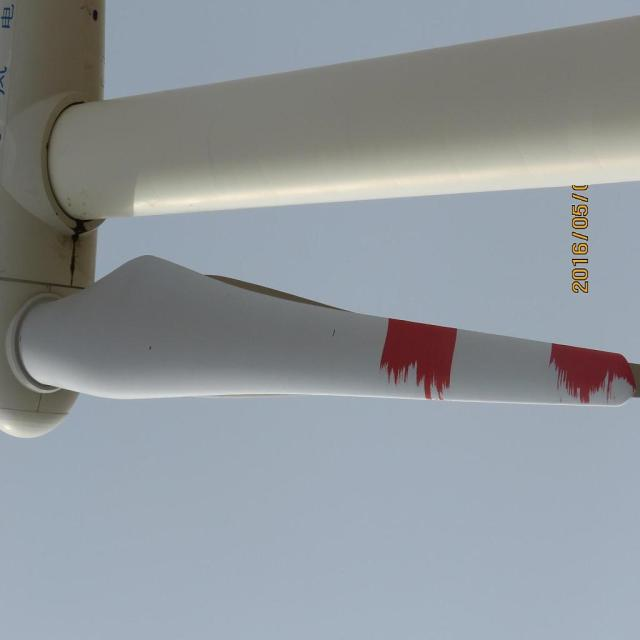surface_peeling: (380, 312, 461, 396), (548, 338, 638, 406)
